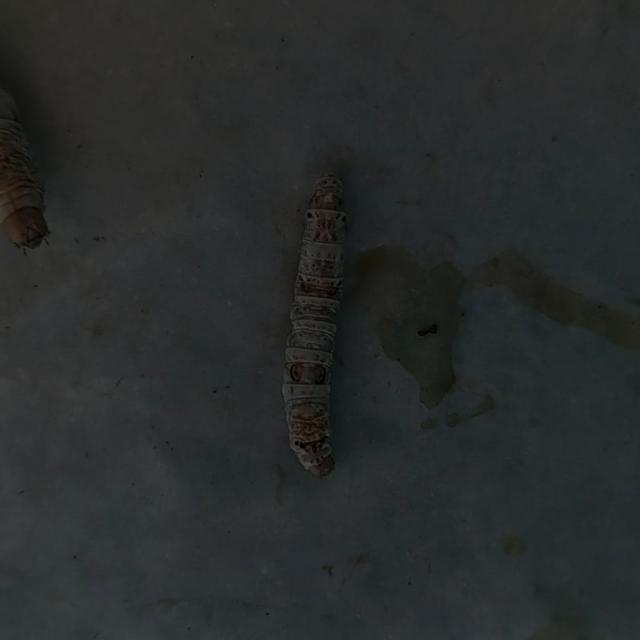Grasserie: (240, 140, 397, 500)
